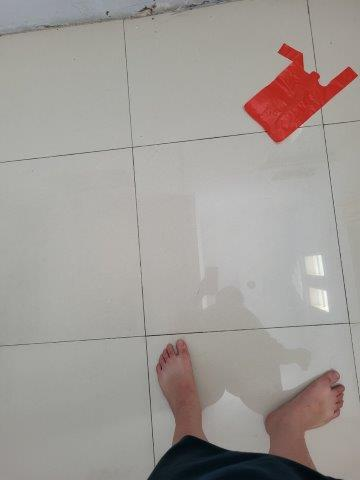plastik: (244, 44, 358, 143)
